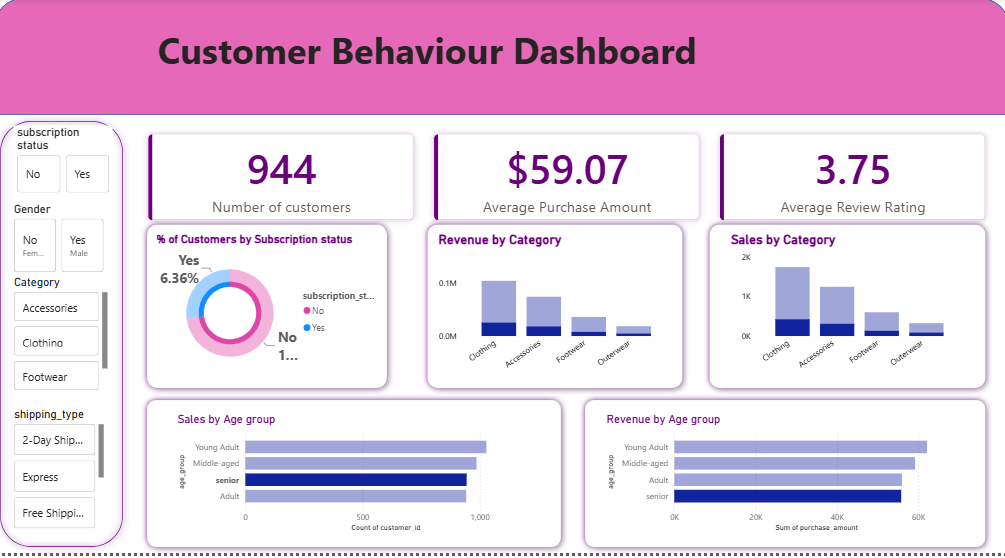

What the dashboard file says about the page in this screenshot:
{"tool":"powerbi","page":{"name":"Page 1","canvas":[1500,820],"ordinal":0},"visuals":[{"type":"cardVisual","fields":{"Data":["public customer.Number of customers","public customer.Average Purchase Amount","public customer.Average Review Rating"]},"box":[199.3,172.7,1293.3,183.8],"z":0},{"type":"shape","box":[0,0,1499.3,172.7],"z":1000},{"type":"textbox","box":[0,35.9,1279.4,102],"z":2000},{"type":"shape","box":[217,325.5,372.1,259.1],"z":3000},{"type":"donutChart","title":"% of Customers by Subscription status","fields":{"Category":["public customer.subscription_status"],"Y":["CountNonNull(public customer.customer_id)"]},"box":[234.7,345.5,336.6,219.2],"z":4000},{"type":"shape","box":[631.2,325.5,394.2,259.1],"z":5000},{"type":"shape","box":[1047.5,325.5,425.2,259.1],"z":6000},{"type":"clusteredColumnChart","title":"Revenue by  Category","fields":{"Y":["Sum(public customer.purchase_amount)"],"Category":["public customer.category"]},"box":[651.1,345.5,352.1,219.2],"z":7000},{"type":"clusteredColumnChart","title":"Sales by Category","fields":{"Y":["CountNonNull(public customer.customer_id)"],"Category":["public customer.category"]},"box":[1082.9,345.5,352.1,219.2],"z":8000},{"type":"shape","box":[0,172.7,199.3,646.7],"z":9000},{"type":"advancedSlicerVisual","title":"subscription status","fields":{"Values":["public customer.subscription_status"]},"box":[28.8,188.2,146.2,104.1],"z":10000},{"type":"advancedSlicerVisual","title":"Gender","fields":{"Values":["public customer.subscription_status"],"Label":["Min(public customer.gender)"]},"box":[24.4,301.2,143.9,108.5],"z":11000},{"type":"advancedSlicerVisual","title":"Category","fields":{"Values":["public customer.category"]},"box":[24.4,409.7,148.4,175],"z":12000},{"type":"advancedSlicerVisual","fields":{"Values":["public customer.shipping_type"]},"box":[24.4,604.6,143.9,183.8],"z":13000},{"type":"shape","box":[217,584.7,628.9,234.7],"z":14000},{"type":"clusteredBarChart","title":"Sales by Age group","fields":{"Y":["CountNonNull(public customer.customer_id)"],"Category":["public customer.age_group"]},"box":[265.8,611.2,540.4,181.6],"z":15000},{"type":"shape","box":[863.7,584.7,609,234.7],"z":16000},{"type":"clusteredBarChart","title":"Revenue by Age group","fields":{"Y":["Sum(public customer.purchase_amount)"],"Category":["public customer.age_group"]},"box":[899.1,611.2,540.4,181.6],"z":16001}]}

Visuals, with their boxes in screenshot pixels (x1, y1, x2, y2), scaled from the page's 1500x820 canvas onto the 1005x558 screenshot:
cardVisual - public customer.Number of customers x public customer.Average Purchase Amount: (left=134, top=118, right=1000, bottom=243)
shape: (left=0, top=0, right=1004, bottom=118)
textbox: (left=0, top=24, right=857, bottom=94)
shape: (left=145, top=221, right=395, bottom=398)
"% of Customers by Subscription status" donutChart: (left=157, top=235, right=383, bottom=384)
shape: (left=423, top=221, right=687, bottom=398)
shape: (left=702, top=221, right=987, bottom=398)
"Revenue by  Category" clusteredColumnChart: (left=436, top=235, right=672, bottom=384)
"Sales by Category" clusteredColumnChart: (left=726, top=235, right=961, bottom=384)
shape: (left=0, top=118, right=134, bottom=557)
"subscription status" advancedSlicerVisual: (left=19, top=128, right=117, bottom=199)
"Gender" advancedSlicerVisual: (left=16, top=205, right=113, bottom=279)
"Category" advancedSlicerVisual: (left=16, top=279, right=116, bottom=398)
advancedSlicerVisual - public customer.shipping_type: (left=16, top=411, right=113, bottom=536)
shape: (left=145, top=398, right=567, bottom=557)
"Sales by Age group" clusteredBarChart: (left=178, top=416, right=540, bottom=539)
shape: (left=579, top=398, right=987, bottom=557)
"Revenue by Age group" clusteredBarChart: (left=602, top=416, right=964, bottom=539)
